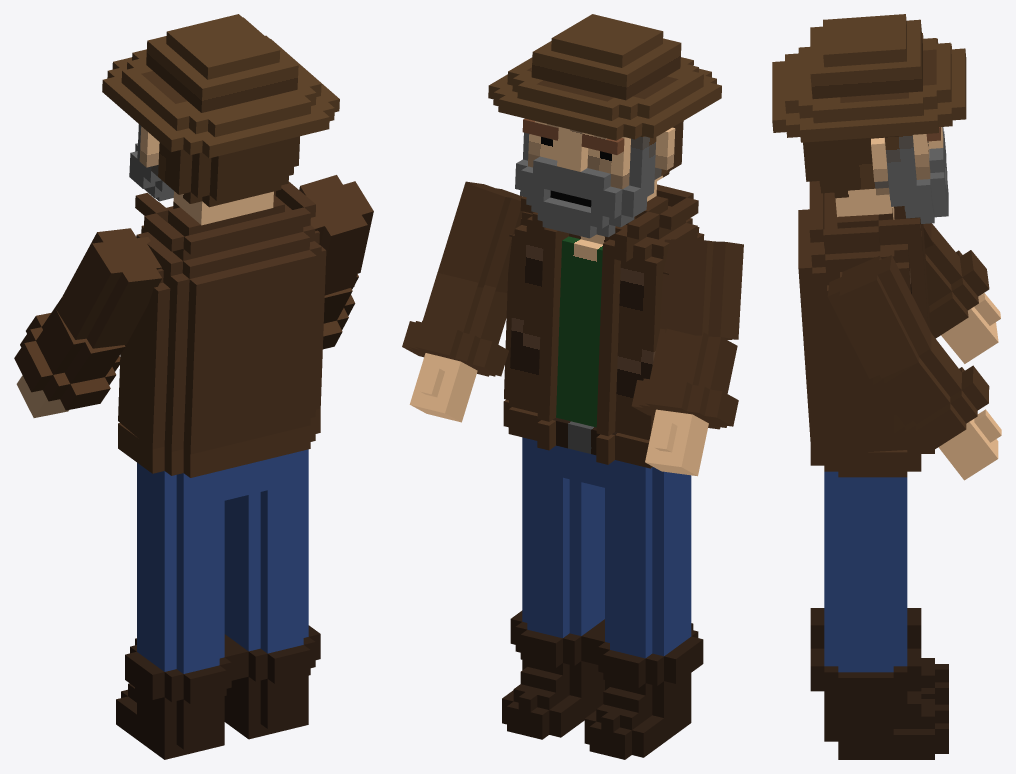
Rendered from Idle2.fbx.
The picture shows the model from 3 angles, left to right: view 1: azimuth 30°, elevation 25°; view 2: azimuth 150°, elevation 25°; view 3: azimuth 270°, elevation 25°; orthographic projection.
Parts seen in each view (by area): view 1: Chest-local, Hat-local, Left Upper Leg-local, Left Lower Leg-local, head-local, Right Lower leg-local, Right Upper Leg-local, left Upper Arm-local, Left lower arm-local, Right Upper Arm-local, Left Foot-local, Hips-local (+3 smaller); view 2: Chest-local, Hat-local, head-local, Left Lower Leg-local, Left Upper Leg-local, Right Lower leg-local, Right Upper Leg-local, left Upper Arm-local, Left lower arm-local, Right Lower Arm-local, Right Upper Arm-local, Left Foot-local (+4 smaller); view 3: Hat-local, Chest-local, head-local, Right Lower leg-local, Right Upper Leg-local, Right Upper Arm-local, Right Lower Arm-local, Right Foot-local, Left lower arm-local, Hips-local, right Hand-local, Left Hand-local (+2 smaller).
Part boxes in pixels (left/top/right/bottom): Chest-local: left=118, top=181, right=326, bottom=455; Hat-local: left=102, top=14, right=339, bottom=158; Left Upper Leg-local: left=137, top=462, right=243, bottom=598; Left Lower Leg-local: left=125, top=576, right=236, bottom=711; head-local: left=129, top=59, right=299, bottom=225; Right Lower leg-local: left=224, top=559, right=320, bottom=691; Right Upper Leg-local: left=224, top=449, right=308, bottom=578; left Upper Arm-local: left=56, top=228, right=162, bottom=348; Left lower arm-local: left=14, top=296, right=125, bottom=410; Right Upper Arm-local: left=299, top=175, right=373, bottom=295; Left Foot-local: left=116, top=683, right=224, bottom=759; Hips-local: left=118, top=408, right=320, bottom=477; Chest-local: left=504, top=184, right=704, bottom=440; Hat-local: left=488, top=14, right=721, bottom=140; head-local: left=515, top=64, right=683, bottom=238; Left Lower Leg-local: left=593, top=562, right=703, bottom=695; Left Upper Leg-local: left=586, top=453, right=691, bottom=584; Right Lower leg-local: left=510, top=545, right=604, bottom=675; Right Upper Leg-local: left=522, top=437, right=604, bottom=563; left Upper Arm-local: left=659, top=239, right=743, bottom=339; Left lower arm-local: left=631, top=328, right=738, bottom=429; Right Lower Arm-local: left=402, top=272, right=508, bottom=376; Right Upper Arm-local: left=437, top=181, right=522, bottom=292; Left Foot-local: left=584, top=674, right=691, bottom=759; Hat-local: left=772, top=14, right=966, bottom=142; Chest-local: left=798, top=181, right=930, bottom=453; head-local: left=803, top=49, right=948, bottom=223; Right Lower leg-local: left=810, top=591, right=921, bottom=709; Right Upper Leg-local: left=824, top=471, right=907, bottom=596; Right Upper Arm-local: left=827, top=255, right=931, bottom=378; Right Lower Arm-local: left=873, top=333, right=989, bottom=453; Right Foot-local: left=824, top=691, right=948, bottom=759; Left lower arm-local: left=925, top=223, right=989, bottom=338; Hips-local: left=810, top=440, right=934, bottom=477; right Hand-local: left=938, top=409, right=1001, bottom=480; Left Hand-local: left=941, top=293, right=1000, bottom=363.
Size of the model in its own units: 2651 by 5528 by 1658.
